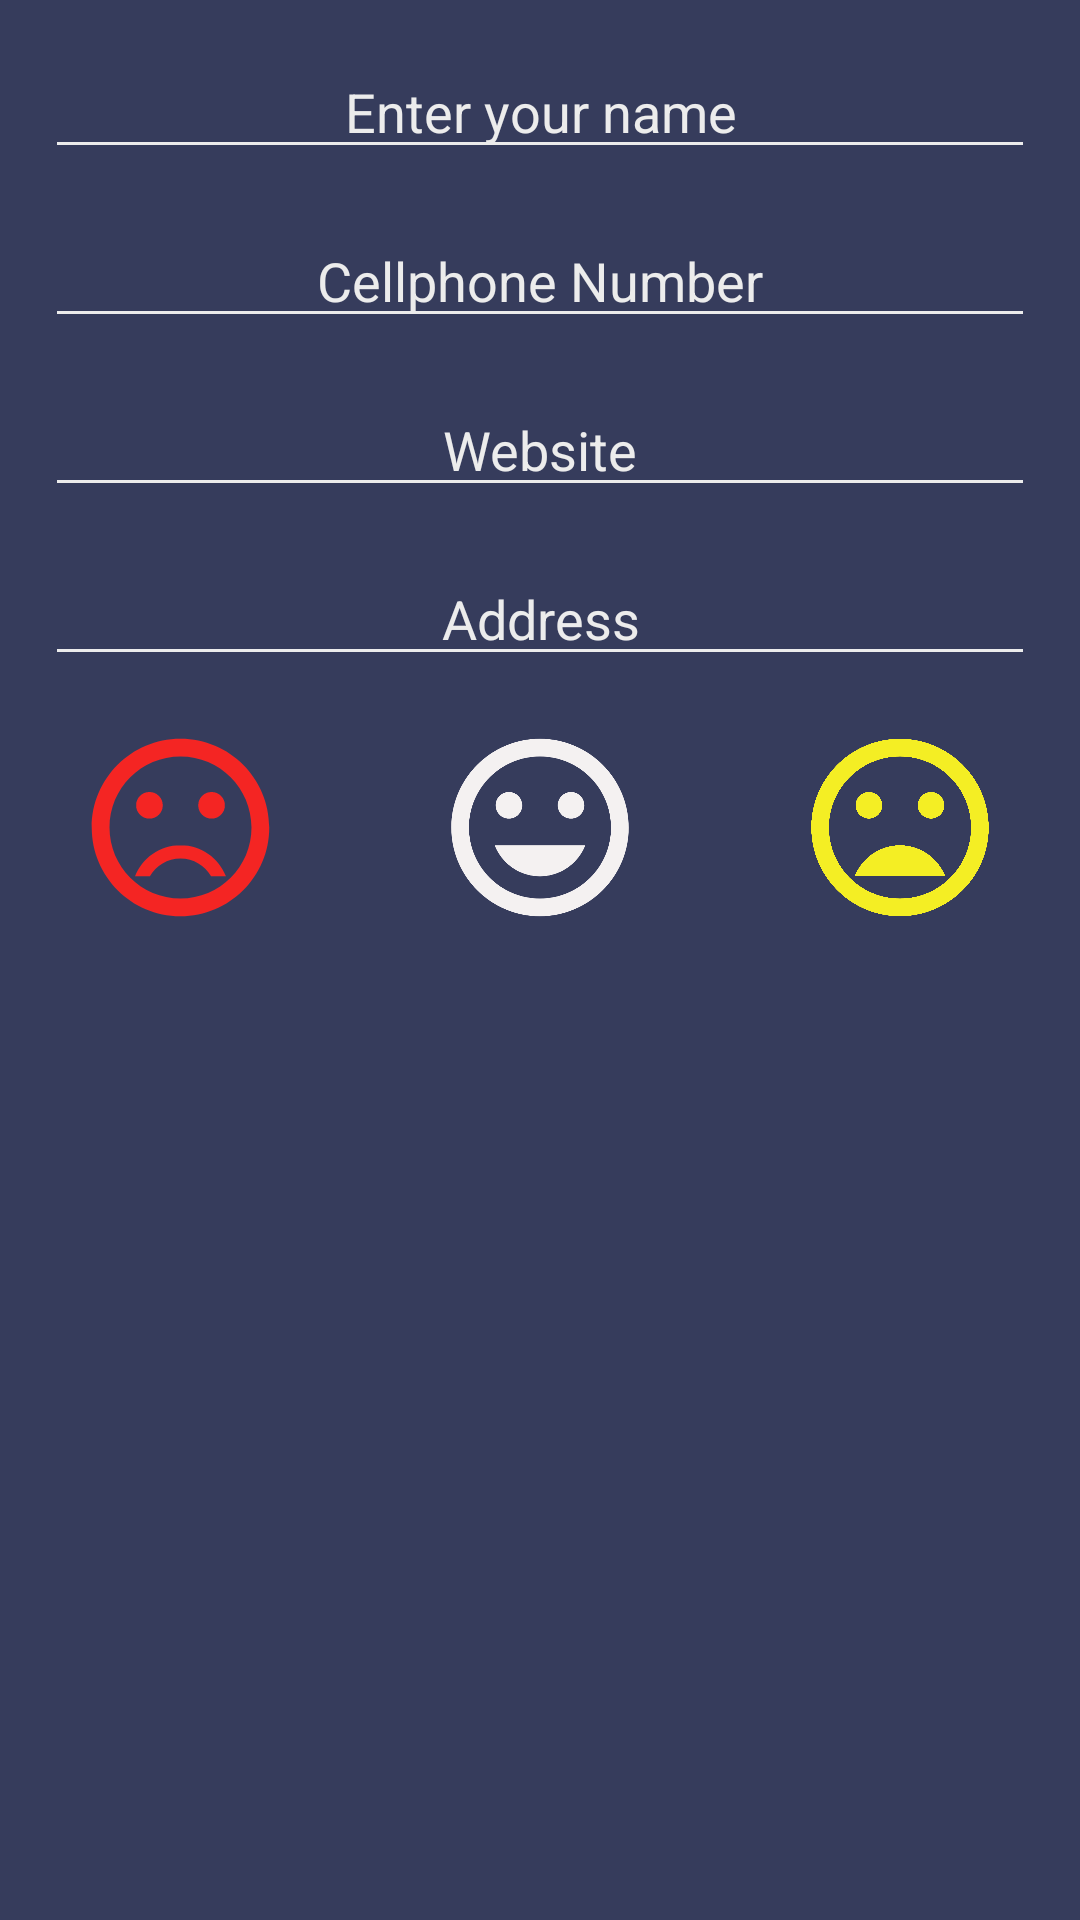

Named icons in this screenshot (1080 x 1920) and their centers, (x=x, y=y):
happy: (x=540, y=827)
sad: (x=180, y=827)
